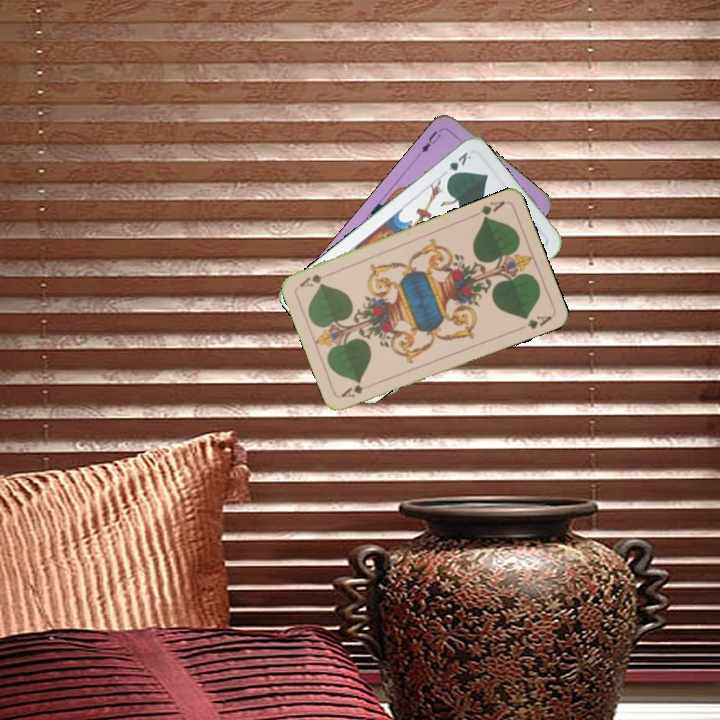EU: (414, 127, 444, 159)
GA: (469, 197, 508, 223), (337, 381, 366, 400)
GK: (443, 148, 474, 182)
